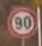limite 90: (6, 5, 39, 39)
